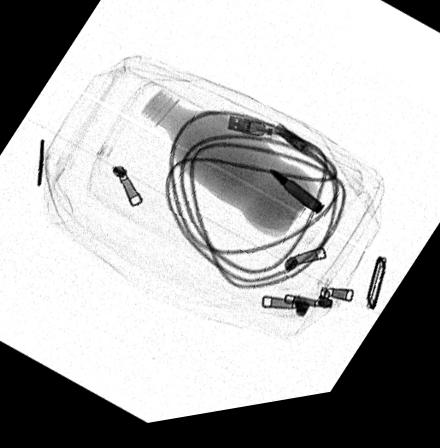Bullet: (267, 175, 325, 225)
